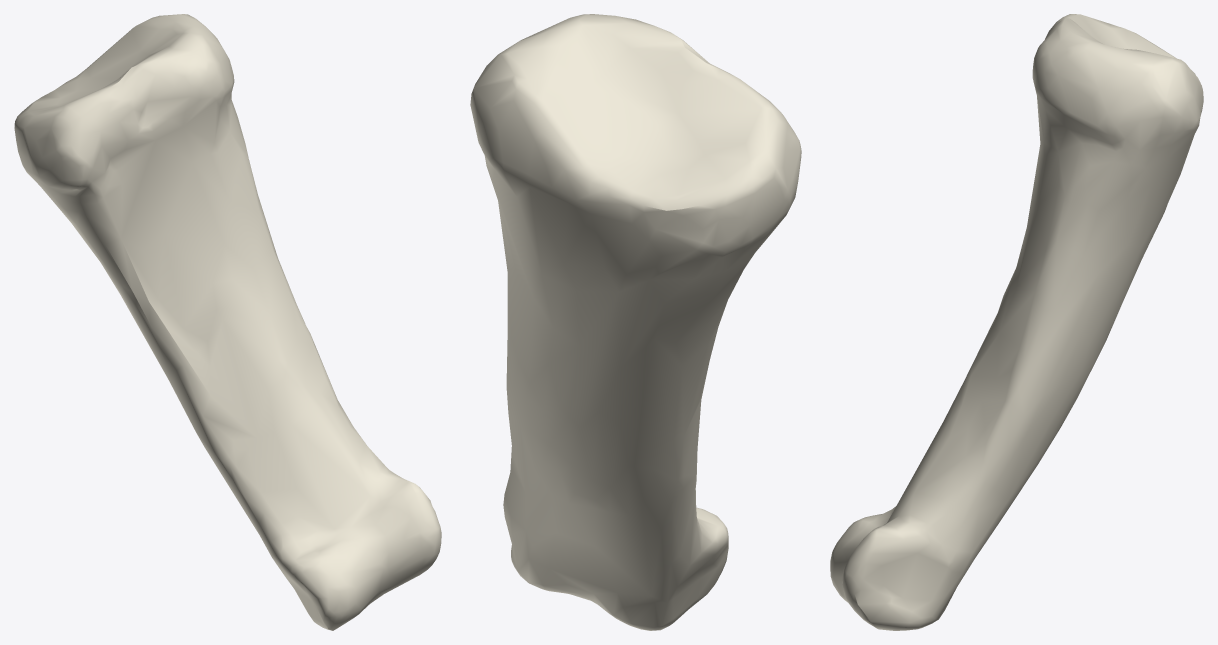
Rendered from fma71915.glb.
3 renders of one model, left to right at view 1: azimuth 30°, elevation 25°; view 2: azimuth 150°, elevation 25°; view 3: azimuth 270°, elevation 25°, orthographic. The views are drawn at different scales.
Parts seen in each view (by area): view 1: FMA71915; view 2: FMA71915; view 3: FMA71915.
Part boxes in pixels (x1,y1,x2,y2): FMA71915: (14, 14, 441, 630); FMA71915: (470, 14, 801, 630); FMA71915: (830, 14, 1203, 630).
Bounding box in the file's own units: 0.0221 × 0.0378 × 0.0231.
